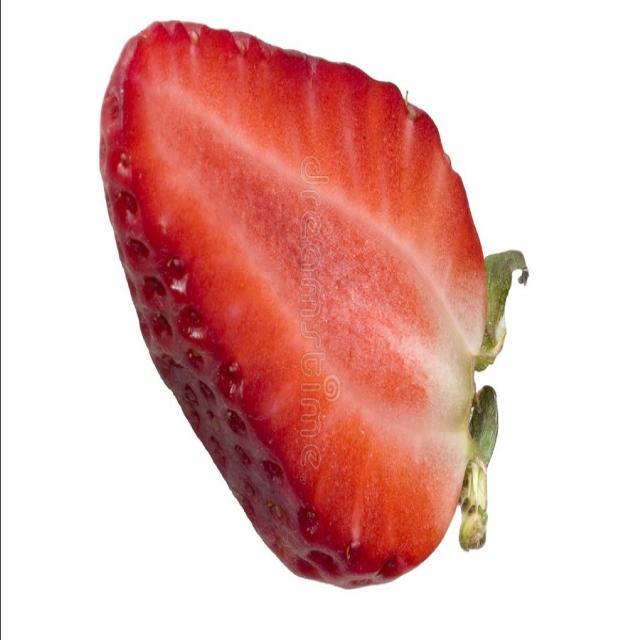strawberry: (70, 0, 532, 619)
